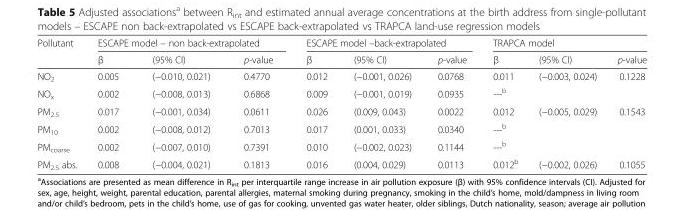table: (36, 36, 646, 170)
table column: (134, 36, 226, 170), (339, 36, 423, 170), (527, 36, 606, 170), (226, 36, 289, 170), (423, 36, 479, 170), (36, 36, 86, 170), (289, 36, 339, 170), (86, 36, 134, 170), (479, 36, 527, 170), (606, 36, 646, 170)
table column header: (36, 36, 646, 67)
table row: (36, 84, 646, 102), (36, 119, 646, 137), (36, 137, 646, 155), (36, 50, 646, 67), (36, 67, 646, 84), (36, 102, 646, 119), (36, 155, 646, 170), (36, 36, 646, 50)
table spanning cell: (86, 36, 289, 50), (289, 36, 479, 50), (479, 36, 646, 50), (36, 36, 86, 67)
